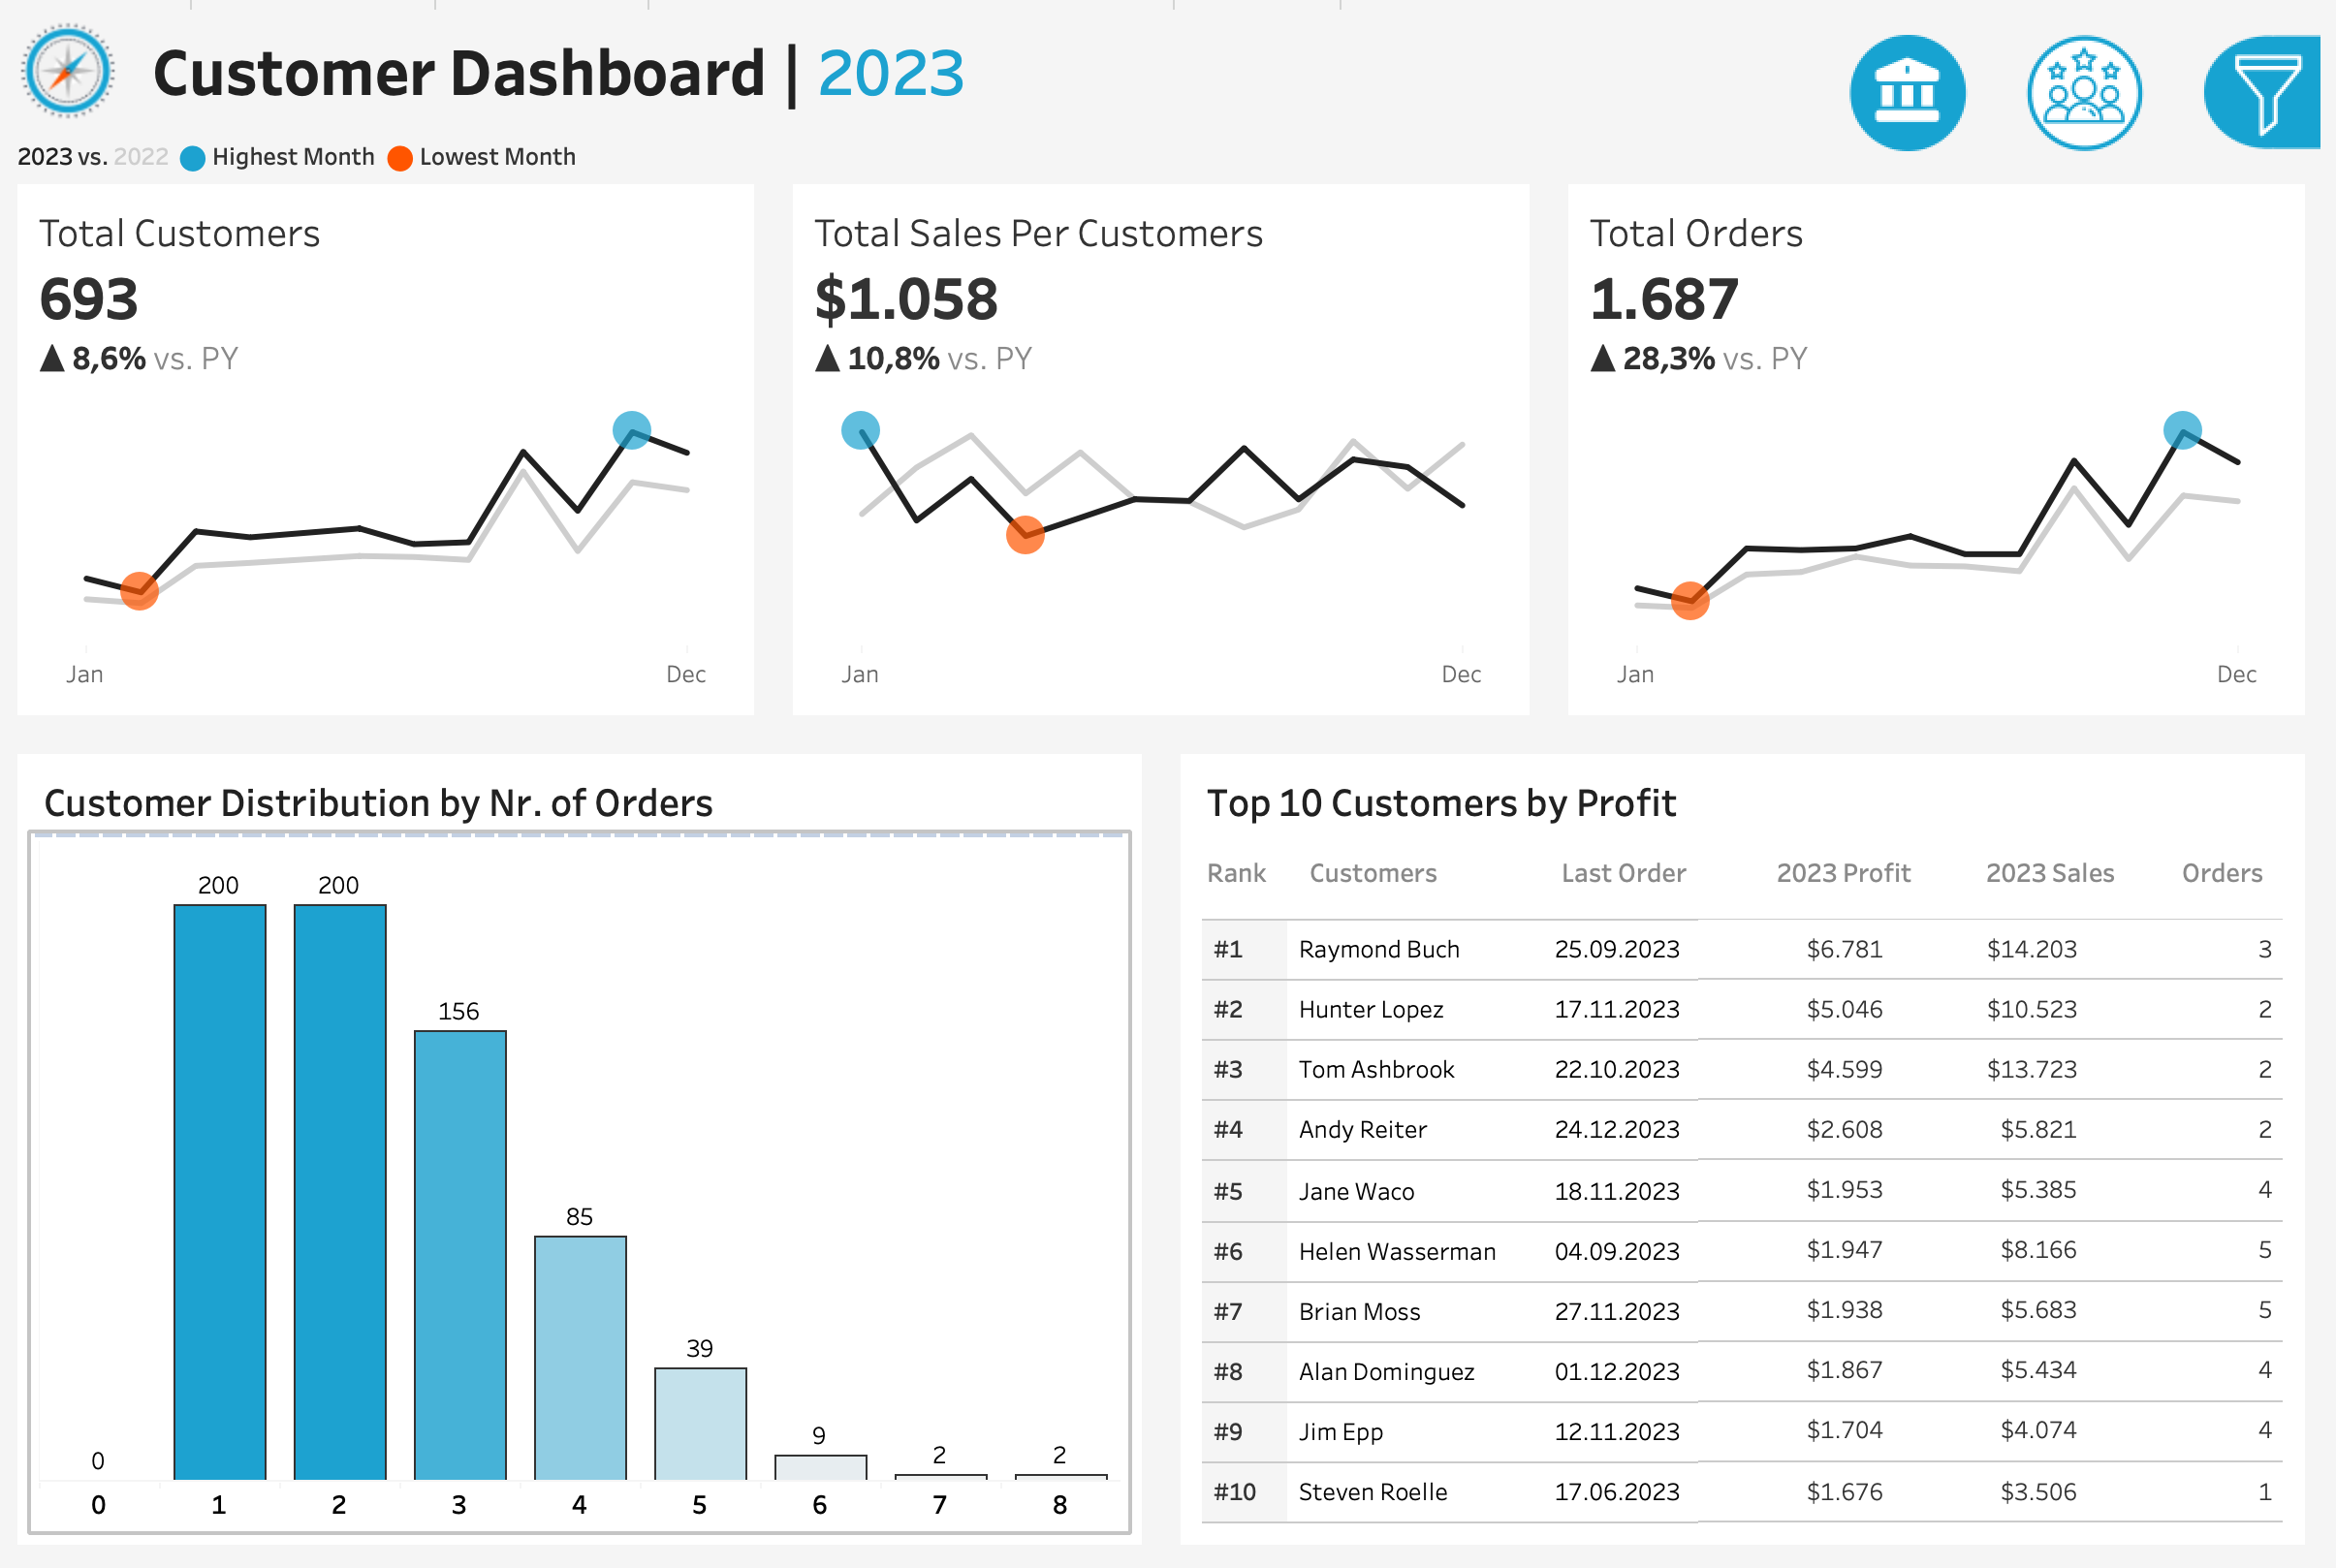

Layout of this report page (visuals, bound fields, positions):
{"tool":"tableau","page":{"name":"Customer Dashboard","canvas":[1200,800],"ordinal":0},"visuals":[{"type":"image","param":"Image/Icon - Logo.png","box":[0,0,73,59]},{"type":"text","box":[73,0,820,59]},{"type":"dashboard-object","box":[940,6,91,70]},{"type":"dashboard-object","box":[1031,6,91,70]},{"type":"blank","box":[952,10,237,86]},{"type":"worksheet","title":"Legend KPI","mark":"Automatic","box":[0,59,1200,29]},{"type":"worksheet","title":"KPI Customers","mark":"Automatic","rows":["Min/Max Quantity (copy)_3221481164588691468"],"cols":["Order Date"],"box":[0,88,400,284]},{"type":"worksheet","title":"KPI Sales Per Customers","mark":"Automatic","rows":["Min/Max Quantity (copy)_3221481164537155591"],"cols":["Order Date"],"box":[400,88,400,284]},{"type":"worksheet","title":"KPI Orders","mark":"Automatic","rows":["Min/Max Sales (copy)_3221481164601258003"],"cols":["Order Date"],"box":[800,88,400,284]},{"type":"text","box":[952,96,237,37]},{"type":"parameter","param":"[Parameters].[Parameter 1]","box":[952,133,237,55]},{"type":"text","box":[952,188,237,32]},{"type":"filter","title":"KPI Customers","param":"[federated.1kpxa041aiai2y1cl4pui1t4eju9].[none:Category:nk]","box":[952,220,237,57]},{"type":"filter","title":"KPI Customers","param":"[federated.1kpxa041aiai2y1cl4pui1t4eju9].[none:Sub-Category:nk]","box":[952,277,237,57]},{"type":"blank","box":[952,334,237,60]},{"type":"text","box":[17,389,566,37]},{"type":"text","box":[617,389,566,37]},{"type":"text","box":[952,394,237,32]},{"type":"worksheet","title":"Customer Distribution","mark":"Bar","rows":["CY Sales (copy)_3221481164532666369"],"cols":["Calculation_998110323739992064"],"box":[17,426,566,357]},{"type":"text","box":[617,426,53,40]},{"type":"text","box":[670,426,130,40]},{"type":"text","box":[800,426,111,40]},{"type":"text","box":[911,426,108,40]},{"type":"filter","title":"KPI Customers","param":"[federated.1kpxa041aiai2y1cl4pui1t4eju9].[none:Region:nk]","box":[952,426,237,57]},{"type":"text","box":[1019,426,101,40]},{"type":"text","box":[1120,426,63,40]},{"type":"worksheet","title":"Top Customers","mark":"Automatic","rows":["Calculation_782500491678904334","Customer Name","Order Date"],"box":[617,466,566,317]},{"type":"filter","title":"KPI Customers","param":"[federated.1kpxa041aiai2y1cl4pui1t4eju9].[none:State:nk]","box":[952,483,237,57]},{"type":"filter","title":"KPI Customers","param":"[federated.1kpxa041aiai2y1cl4pui1t4eju9].[none:City:nk]","box":[952,540,237,57]}]}

Visuals, with their boxes in screenshot pixels (x1, y1, x2, y2), scaled from the page's 1200x800 canvas onto the 2336x1568 screenshot:
image: (x1=0, y1=0, x2=142, y2=115)
text: (x1=142, y1=0, x2=1738, y2=115)
dashboard-object: (x1=1830, y1=12, x2=2007, y2=149)
dashboard-object: (x1=2007, y1=12, x2=2184, y2=149)
blank: (x1=1853, y1=19, x2=2315, y2=188)
"Legend KPI" worksheet: (x1=0, y1=115, x2=2335, y2=172)
"KPI Customers" worksheet: (x1=0, y1=172, x2=778, y2=729)
"KPI Sales Per Customers" worksheet: (x1=778, y1=172, x2=1558, y2=729)
"KPI Orders" worksheet: (x1=1558, y1=172, x2=2335, y2=729)
text: (x1=1853, y1=188, x2=2315, y2=261)
parameter: (x1=1853, y1=261, x2=2315, y2=368)
text: (x1=1853, y1=368, x2=2315, y2=431)
"KPI Customers" filter: (x1=1853, y1=431, x2=2315, y2=543)
"KPI Customers" filter: (x1=1853, y1=543, x2=2315, y2=655)
blank: (x1=1853, y1=655, x2=2315, y2=772)
text: (x1=33, y1=763, x2=1135, y2=835)
text: (x1=1201, y1=763, x2=2303, y2=835)
text: (x1=1853, y1=772, x2=2315, y2=835)
"Customer Distribution" worksheet (Bar marks): (x1=33, y1=835, x2=1135, y2=1535)
text: (x1=1201, y1=835, x2=1305, y2=913)
text: (x1=1305, y1=835, x2=1558, y2=913)
text: (x1=1558, y1=835, x2=1774, y2=913)
text: (x1=1774, y1=835, x2=1983, y2=913)
"KPI Customers" filter: (x1=1853, y1=835, x2=2315, y2=947)
text: (x1=1983, y1=835, x2=2180, y2=913)
text: (x1=2180, y1=835, x2=2303, y2=913)
"Top Customers" worksheet: (x1=1201, y1=913, x2=2303, y2=1535)
"KPI Customers" filter: (x1=1853, y1=947, x2=2315, y2=1058)
"KPI Customers" filter: (x1=1853, y1=1058, x2=2315, y2=1170)
